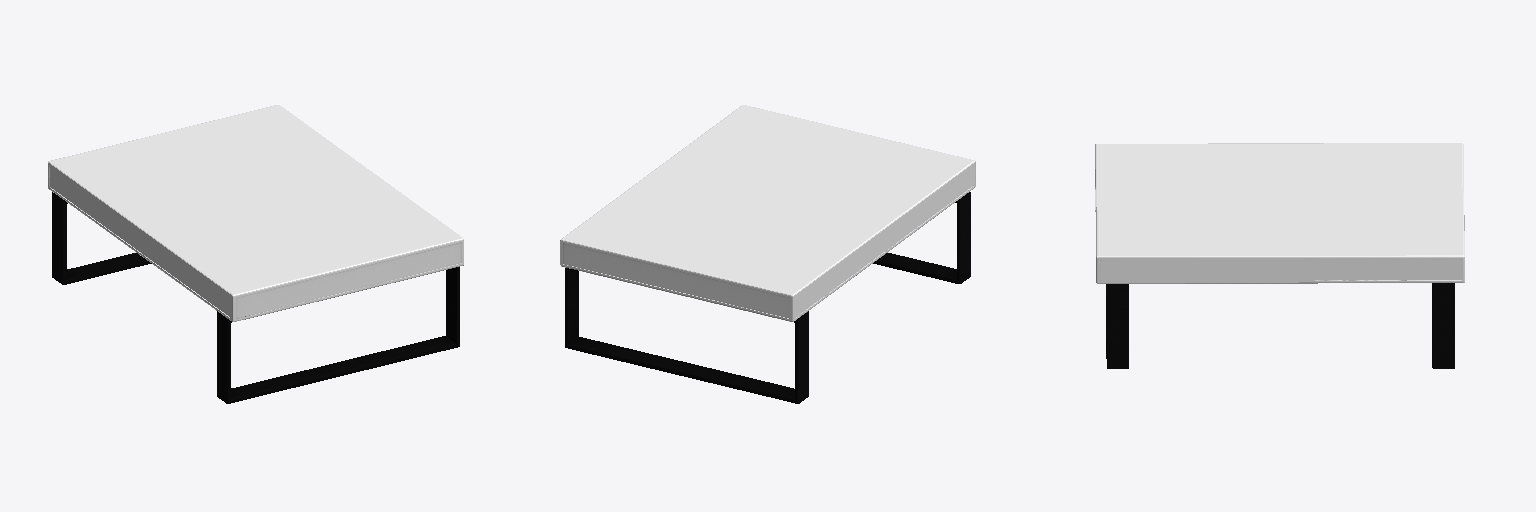
3 renders of one model, left to right at view 1: azimuth 30°, elevation 25°; view 2: azimuth 150°, elevation 25°; view 3: azimuth 270°, elevation 25°, orthographic.
Parts seen in each view (by area): view 1: solid_001_wire; view 2: solid_001_wire; view 3: solid_001_wire.
Boxes of the visible parts, <box> form: solid_001_wire: <box>48,105,463,403</box>; solid_001_wire: <box>560,105,975,403</box>; solid_001_wire: <box>1095,143,1464,368</box>.
Size of the model in its own units: 0.7868 by 0.3614 by 1.08.
Materials: 1 (1 with a texture image).